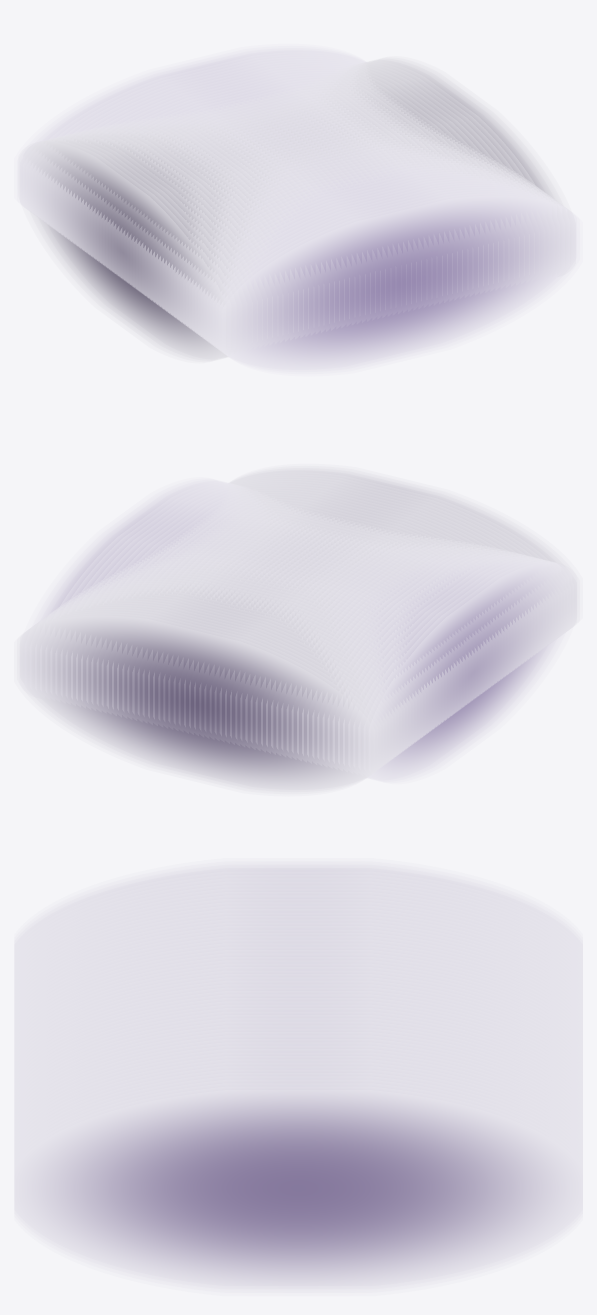
3 renders of one model, top to bottom at view 1: azimuth 30°, elevation 25°; view 2: azimuth 150°, elevation 25°; view 3: azimuth 270°, elevation 25°, orthographic. The views are drawn at different scales.
Visible parts, largest first — view 1: fog1, fog; view 2: fog1, fog; view 3: fog.
Part boxes in pixels (x1=…): fog1: x1=44, y1=51, x2=567, y2=368; fog: x1=40, y1=63, x2=552, y2=355; fog1: x1=32, y1=471, x2=554, y2=788; fog: x1=42, y1=484, x2=554, y2=776; fog: x1=17, y1=868, x2=579, y2=1286.
Bounding box in the file's own units: 37.98 × 15.2 × 38.01.
Materials: 1 (1 with a texture image).
